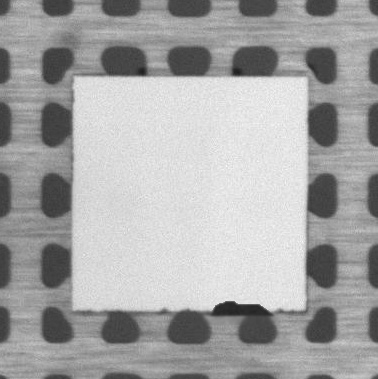DIE_BROKEN: (206, 301, 275, 317)
